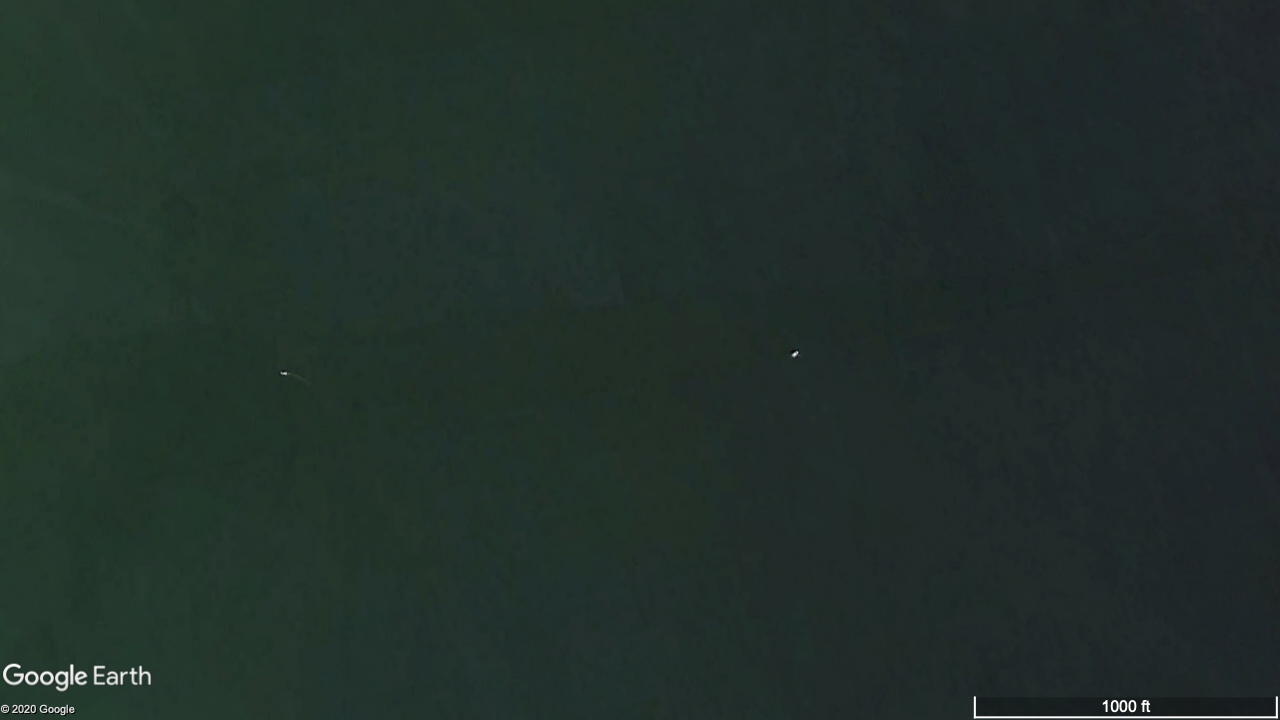boat: (791, 350, 799, 358), (280, 371, 289, 376)
